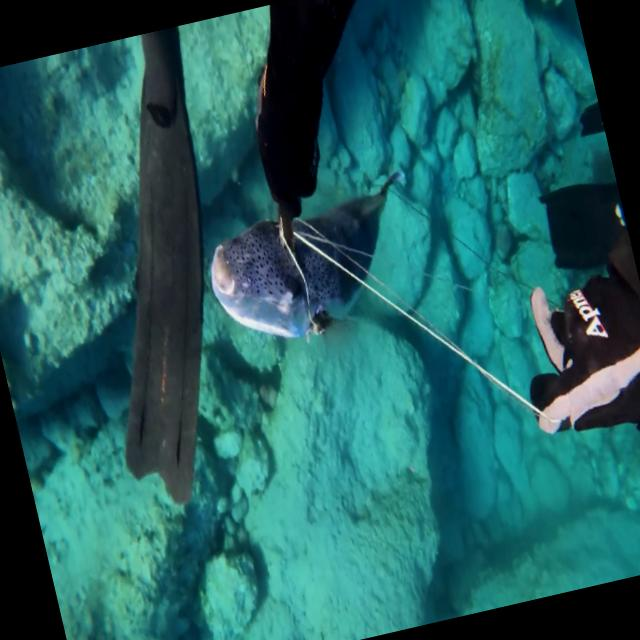Balon Baligi: (193, 165, 434, 356)
